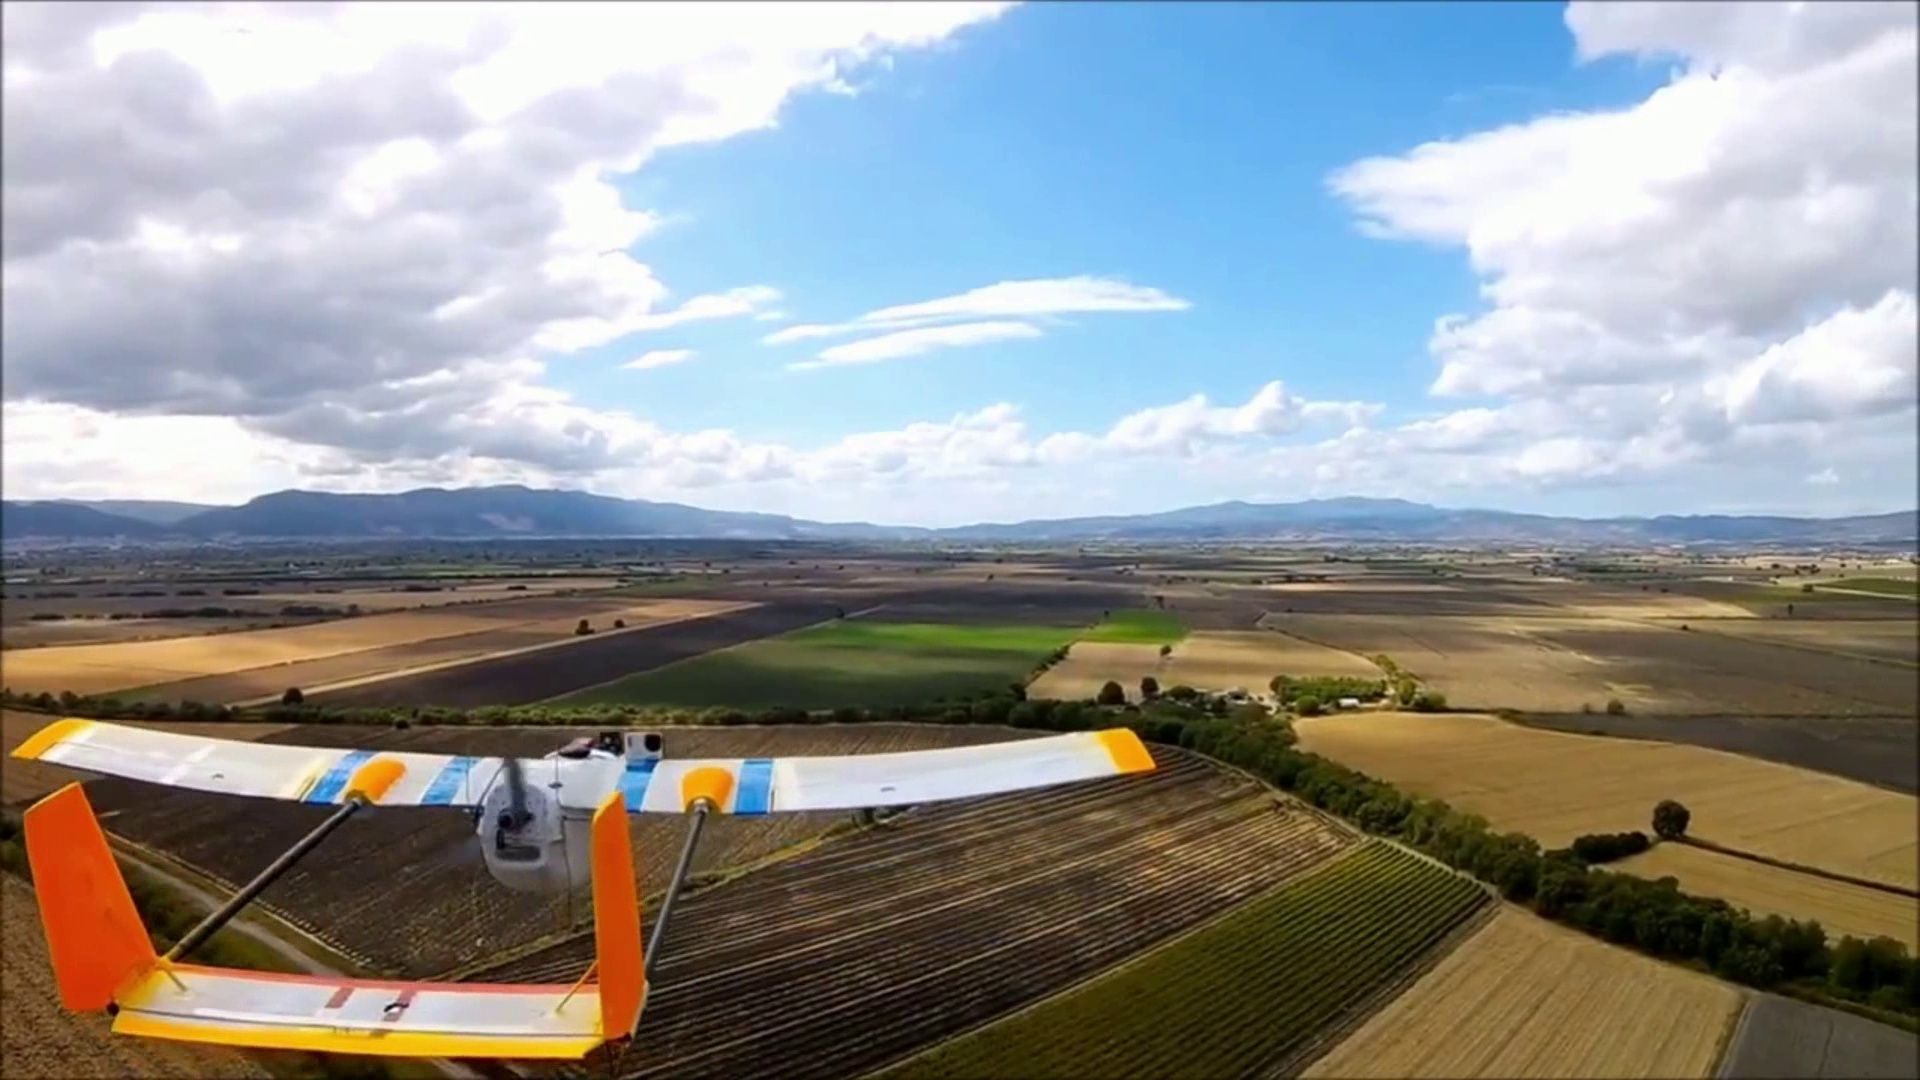airplane: (8, 717, 1156, 1065)
